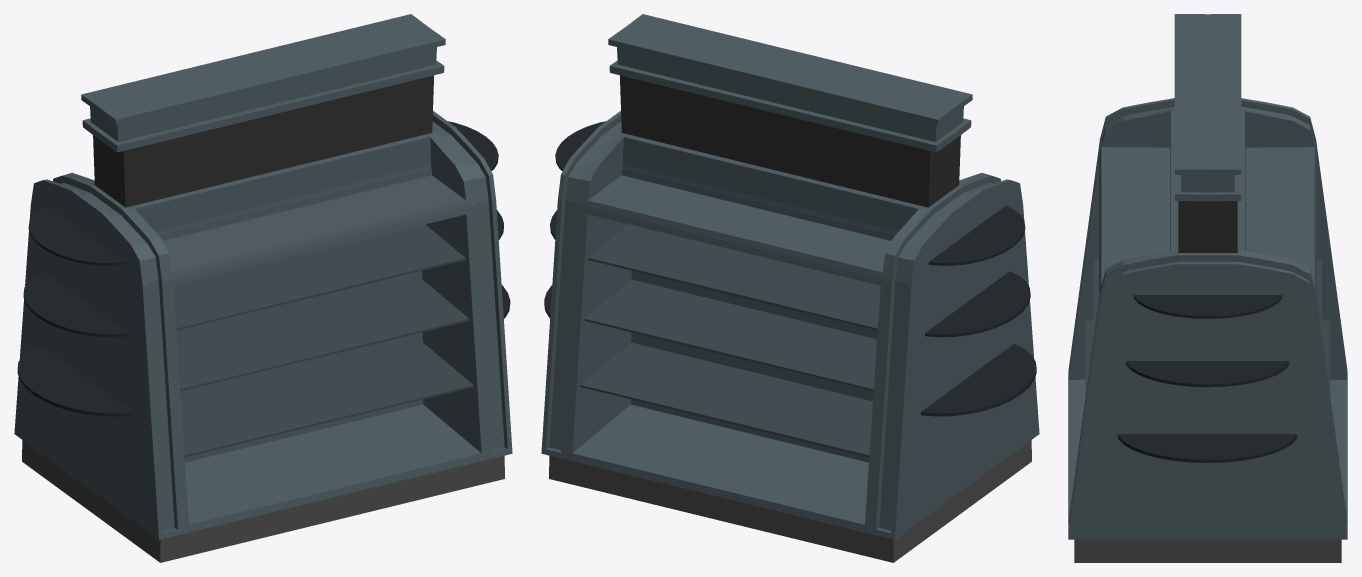
Rendered from Two Sided Shelving Med #2.fbx.
The picture shows the model from 3 angles, left to right: view 1: azimuth 30°, elevation 25°; view 2: azimuth 150°, elevation 25°; view 3: azimuth 270°, elevation 25°; orthographic projection. The views are drawn at different scales.
Visible parts, largest first — view 1: Two Sided Shelving Med #2; view 2: Two Sided Shelving Med #2; view 3: Two Sided Shelving Med #2.
Boxes of the visible parts, bbox=[...] form: Two Sided Shelving Med #2: bbox=[14, 14, 512, 562]; Two Sided Shelving Med #2: bbox=[541, 14, 1039, 562]; Two Sided Shelving Med #2: bbox=[1068, 14, 1347, 562].
Size of the model in its own units: 193 by 161 by 104.
Materials: 2 (2 with a texture image).
